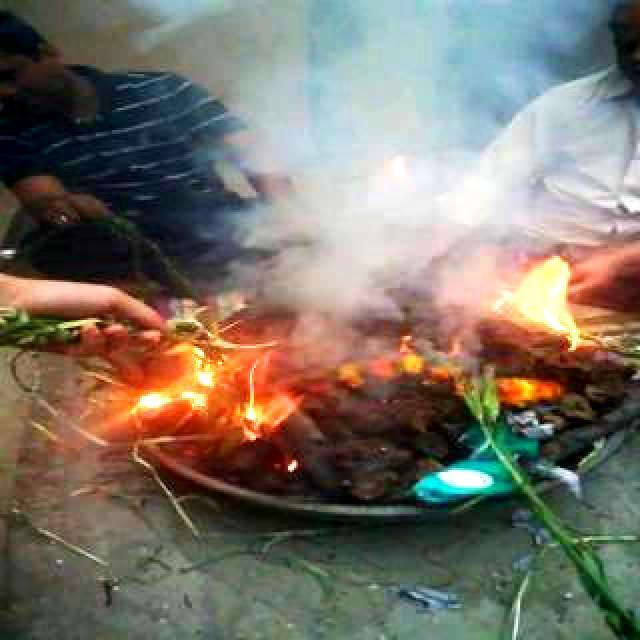Fire: (427, 242, 608, 434), (103, 322, 312, 450)
Smoke: (139, 1, 640, 309)
